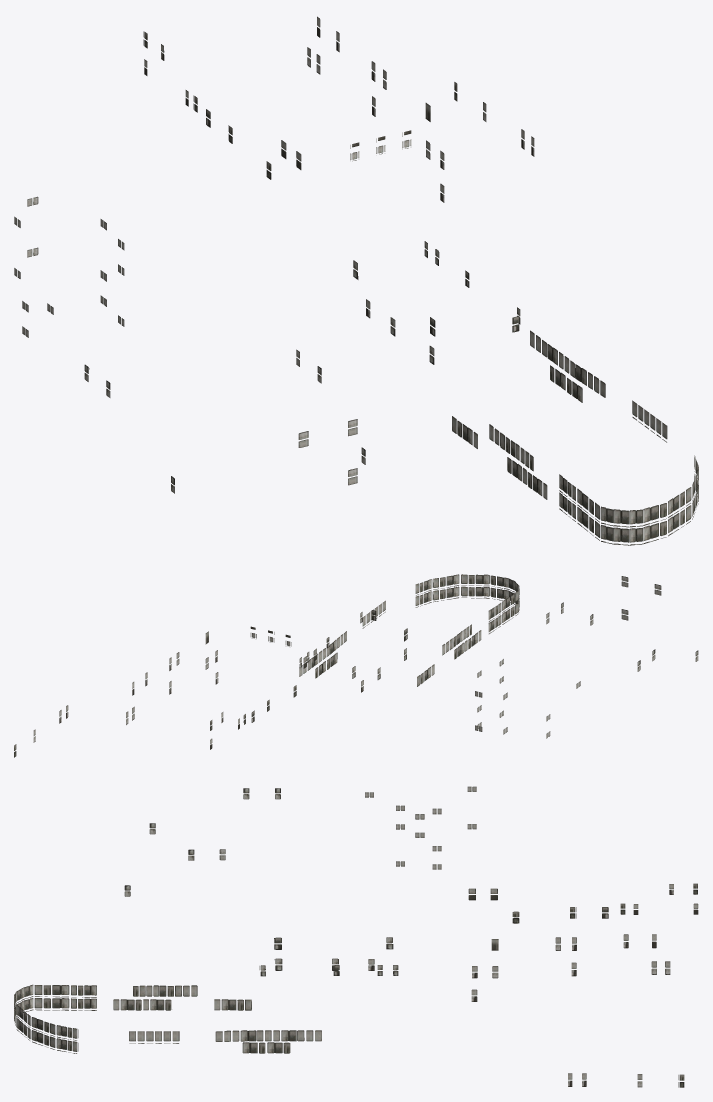
File: nitelitesb_lae2.obj
3 renders of one model, top to bottom at view 1: azimuth 30°, elevation 25°; view 2: azimuth 150°, elevation 25°; view 3: azimuth 270°, elevation 25°, orthographic. The views are drawn at different scales.
Visible parts, largest first — view 1: nitelitesb_LAE2; view 2: nitelitesb_LAE2; view 3: nitelitesb_LAE2.
Part boxes in pixels (<box>): nitelitesb_LAE2: <box>14,16,698,545</box>; nitelitesb_LAE2: <box>14,574,698,757</box>; nitelitesb_LAE2: <box>14,786,698,1087</box>.
Size of the model in its own units: 130 by 34.06 by 164.
